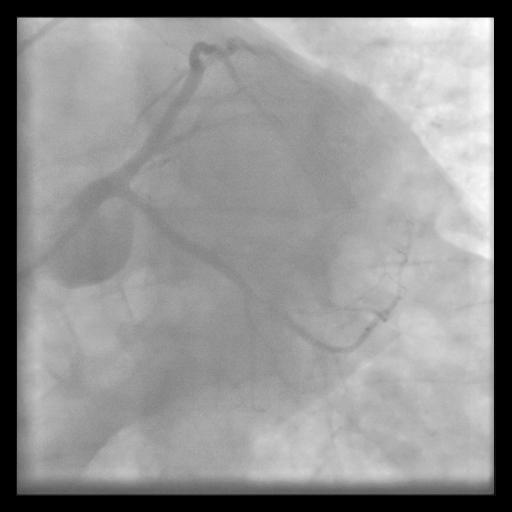Stenosis: (258, 292, 296, 328)
